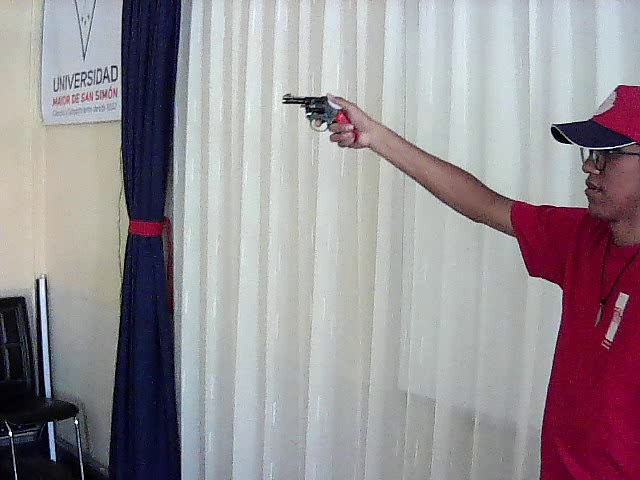pistola: (271, 88, 360, 147)
